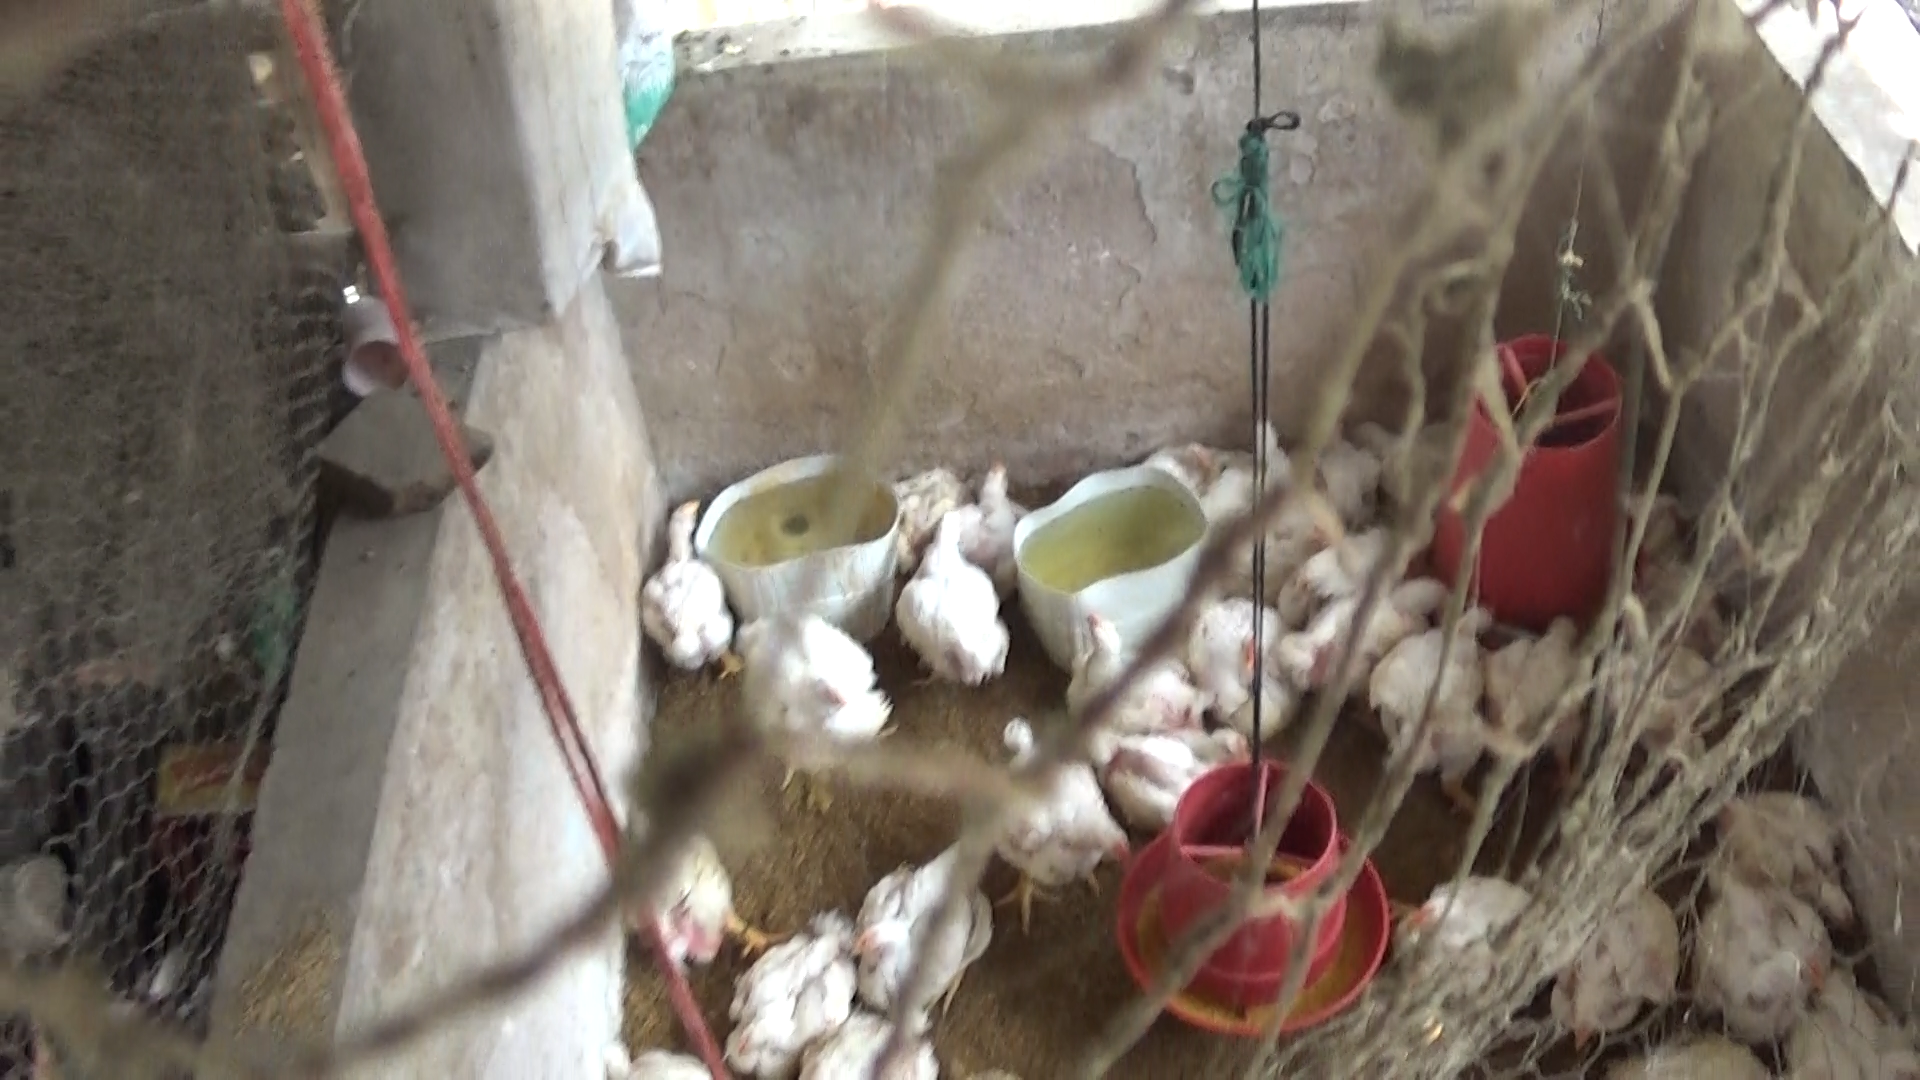Pollos: (735, 599, 895, 798), (605, 804, 773, 963), (897, 495, 1042, 671), (705, 916, 865, 1073), (982, 712, 1098, 916), (852, 822, 978, 1004), (1366, 603, 1505, 757), (1472, 605, 1590, 770), (1704, 877, 1832, 1027), (622, 495, 735, 658), (1284, 529, 1399, 683), (1737, 782, 1853, 934), (1071, 608, 1200, 732), (1098, 709, 1251, 810), (1171, 600, 1280, 712), (1346, 411, 1474, 502), (1160, 411, 1279, 502), (955, 446, 1034, 553)
